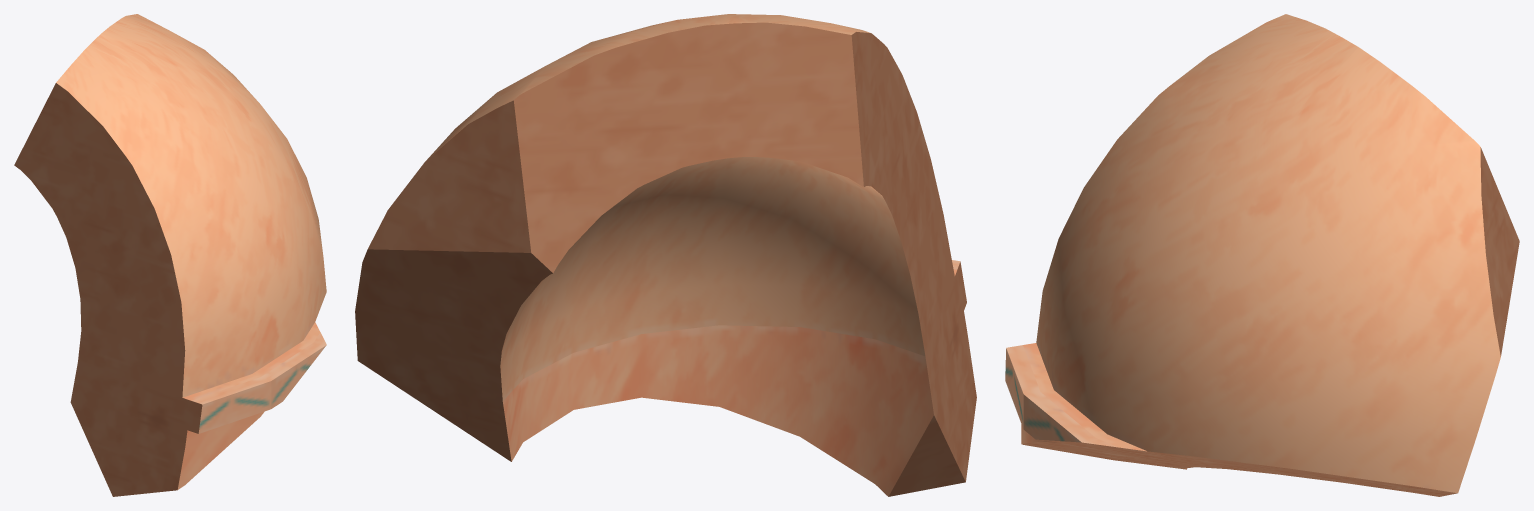
Rendered from dome_s09.fbx.
The picture shows the model from 3 angles, left to right: view 1: azimuth 30°, elevation 25°; view 2: azimuth 150°, elevation 25°; view 3: azimuth 270°, elevation 25°; orthographic projection. The views are drawn at different scales.
Visible parts, largest first — view 1: dome_s09; view 2: dome_s09; view 3: dome_s09.
Part boxes in pixels (bbox=[...]): dome_s09: bbox=[14, 14, 326, 496]; dome_s09: bbox=[355, 14, 976, 496]; dome_s09: bbox=[1005, 14, 1519, 496].
Bounding box in the file's own units: 6.29 × 7.25 × 7.25.
